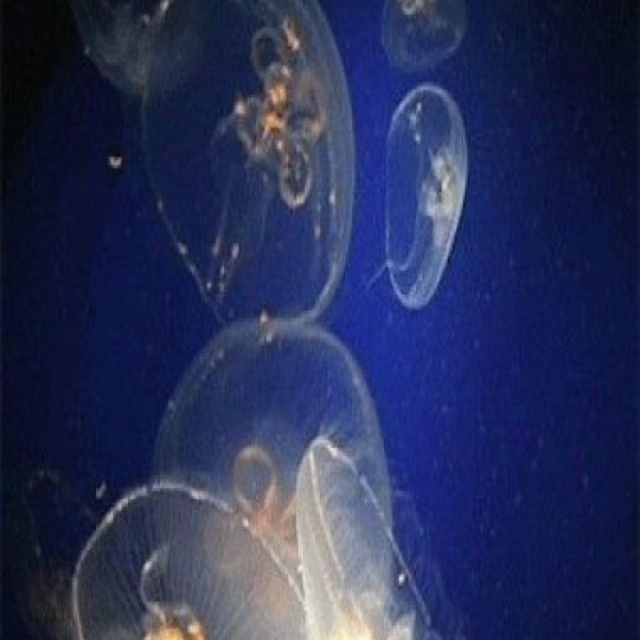Jellyfish: (17, 1, 468, 640)
